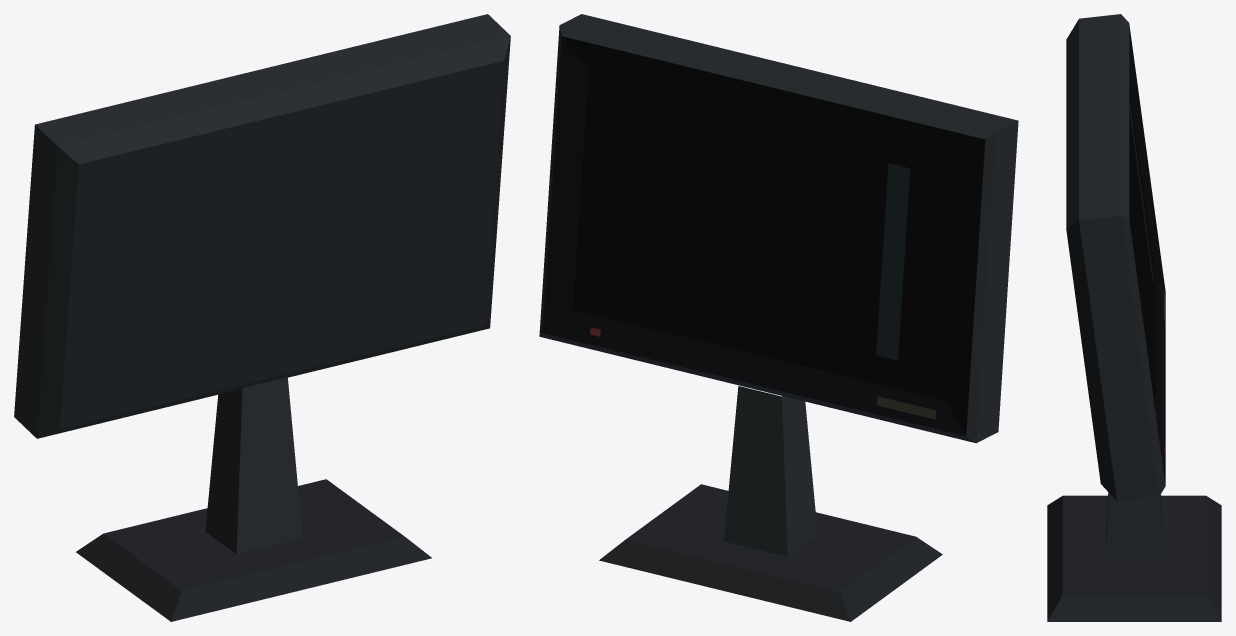
File: lp_desk_monitor.glb
3 views of the same model, side by side, from view 1: azimuth 30°, elevation 25°; view 2: azimuth 150°, elevation 25°; view 3: azimuth 270°, elevation 25° (orthographic). The views are drawn at different scales.
Parts seen in each view (by area): view 1: lp_desk_monitor; view 2: lp_desk_monitor; view 3: lp_desk_monitor.
Boxes of the visible parts, x1,y1,x2,y2 form: lp_desk_monitor: [14, 14, 510, 621]; lp_desk_monitor: [539, 14, 1018, 621]; lp_desk_monitor: [1047, 14, 1221, 621].
Bounding box in the file's own units: 0.52 × 0.5388 × 0.19.
Materials: 1 (1 with a texture image).
